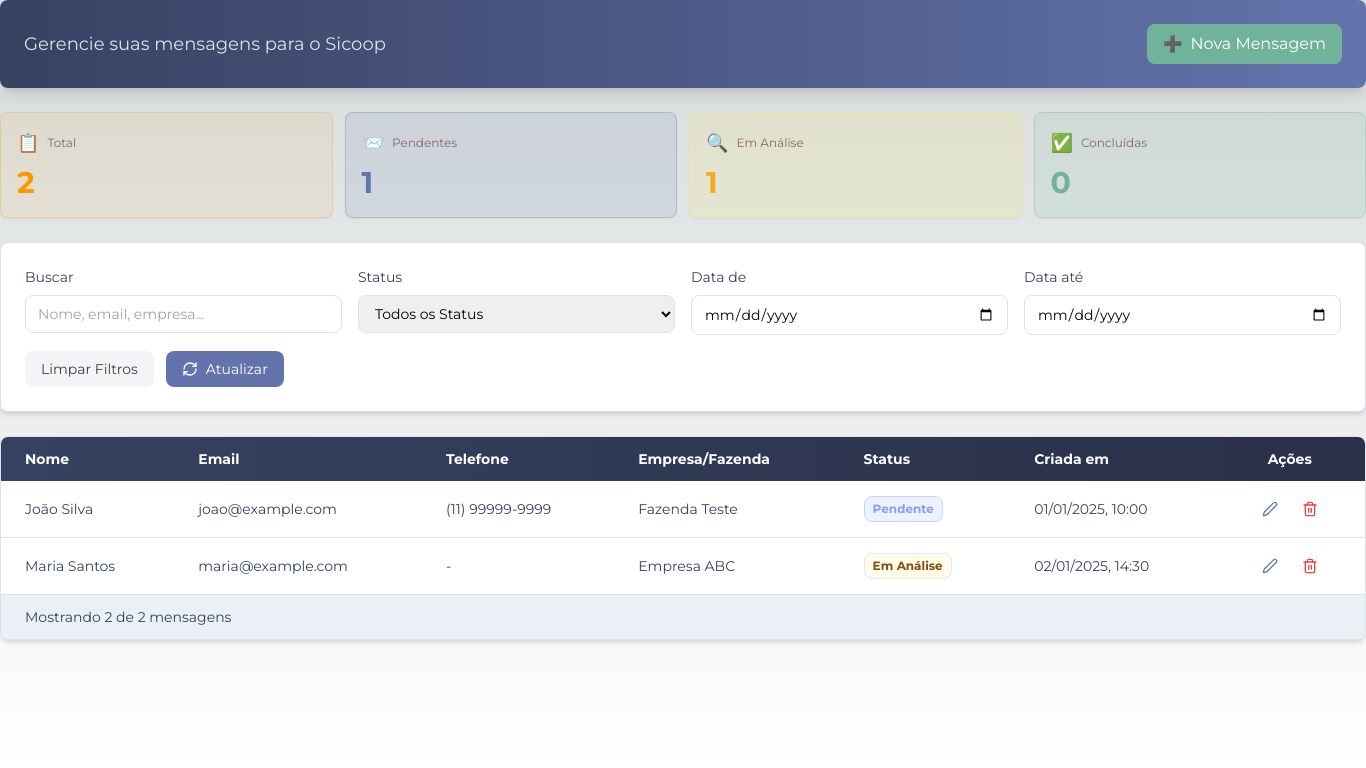
Test: MensagensManager › deve fechar formulário após edição bem-sucedida
This screenshot has width=1366, height=768.
Clicar no botão editar da primeira mensagem
Click the button titled "Editar" in the row of "João Silva". click: (1270, 509)
box: [1254, 493, 1286, 525]
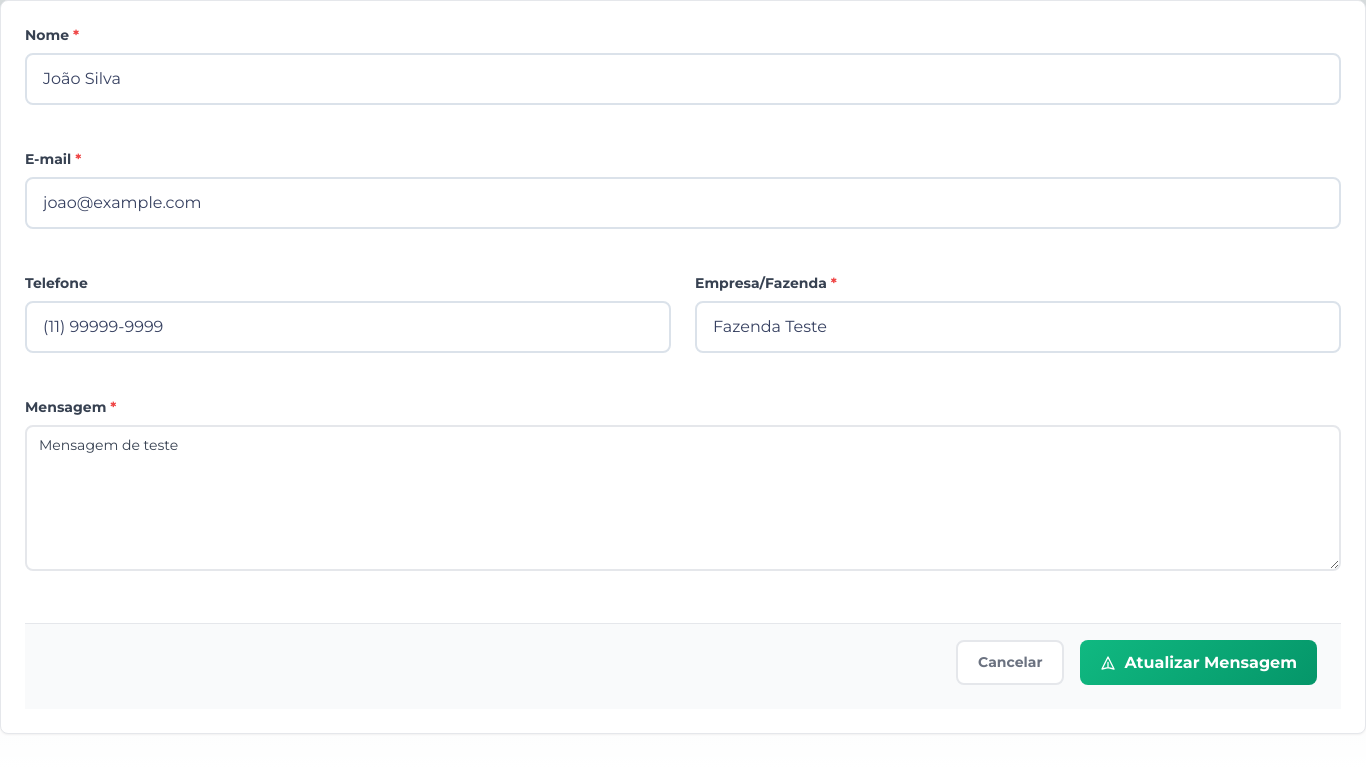
Enviar formulário sem modificações
Click the button "Atualizar Mensagem". click: (1199, 662)
box: [1080, 640, 1317, 685]
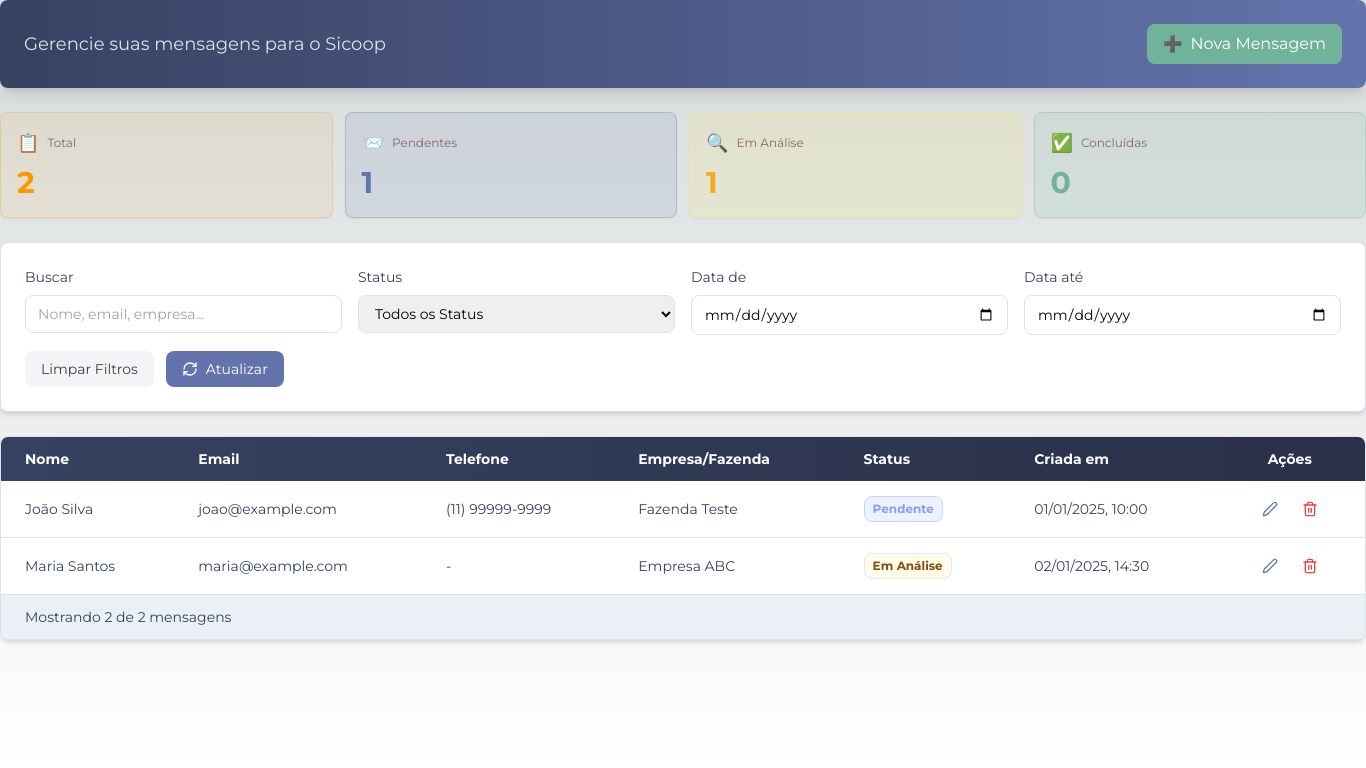
Now the text "Gerencie suas mensagens para o Sicoop" is shown, box [24, 33, 386, 55]
